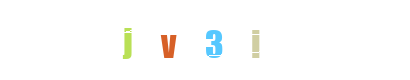3: (165, 0, 245, 80)
I: (174, 0, 254, 80)
J: (128, 0, 208, 80)
V: (142, 0, 222, 80)
